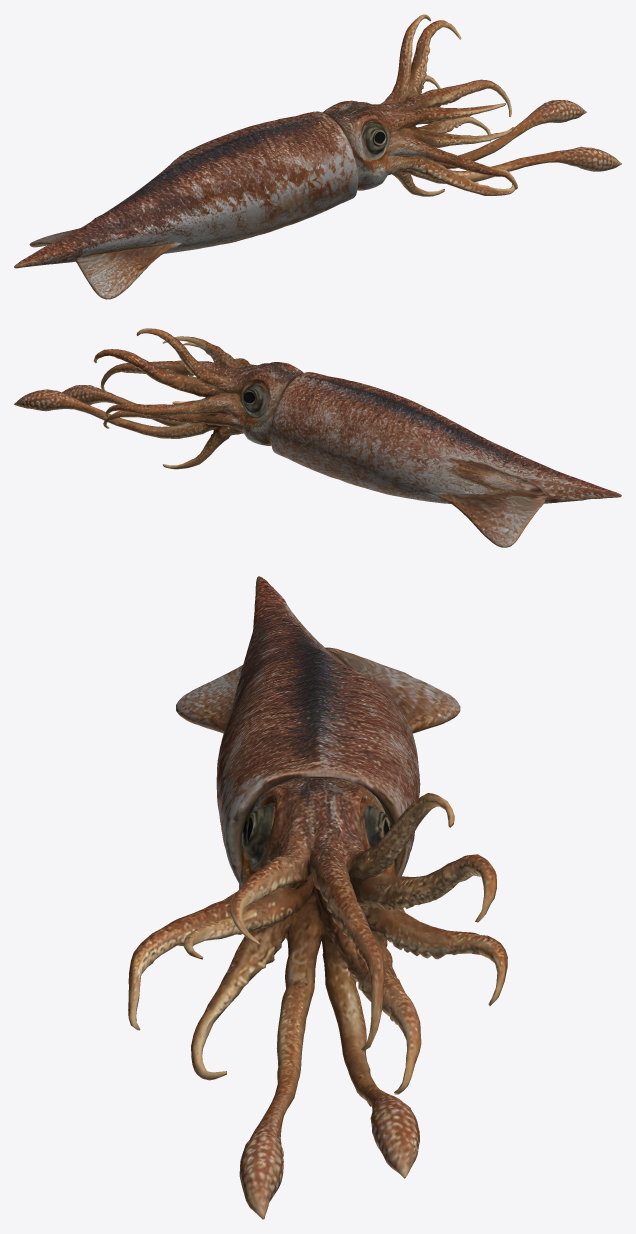
Rendered from phragmoteuthis.preview.glb.
3 renders of one model, top to bottom at view 1: azimuth 30°, elevation 25°; view 2: azimuth 150°, elevation 25°; view 3: azimuth 270°, elevation 25°, orthographic. The views are drawn at different scales.
Visible parts, largest first — view 1: tripo_node_134d8b07-886d-48cd-81b0-47f10eb496c5.001; view 2: tripo_node_134d8b07-886d-48cd-81b0-47f10eb496c5.001; view 3: tripo_node_134d8b07-886d-48cd-81b0-47f10eb496c5.001.
Boxes of the visible parts, bbox=[...] form: tripo_node_134d8b07-886d-48cd-81b0-47f10eb496c5.001: bbox=[14, 14, 621, 299]; tripo_node_134d8b07-886d-48cd-81b0-47f10eb496c5.001: bbox=[14, 328, 621, 547]; tripo_node_134d8b07-886d-48cd-81b0-47f10eb496c5.001: bbox=[128, 576, 507, 1219].
Bounding box in the file's own units: 1 × 0.2556 × 0.2877.
Materials: 1 (1 with a texture image).
